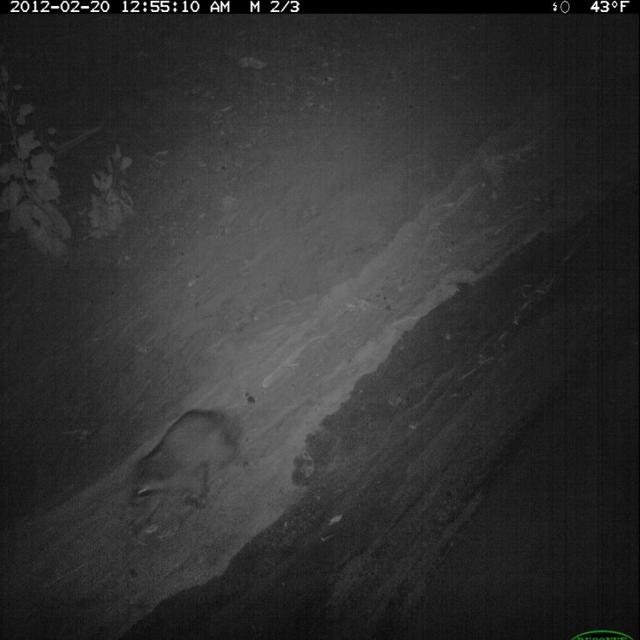raccoon: (128, 400, 242, 532)
